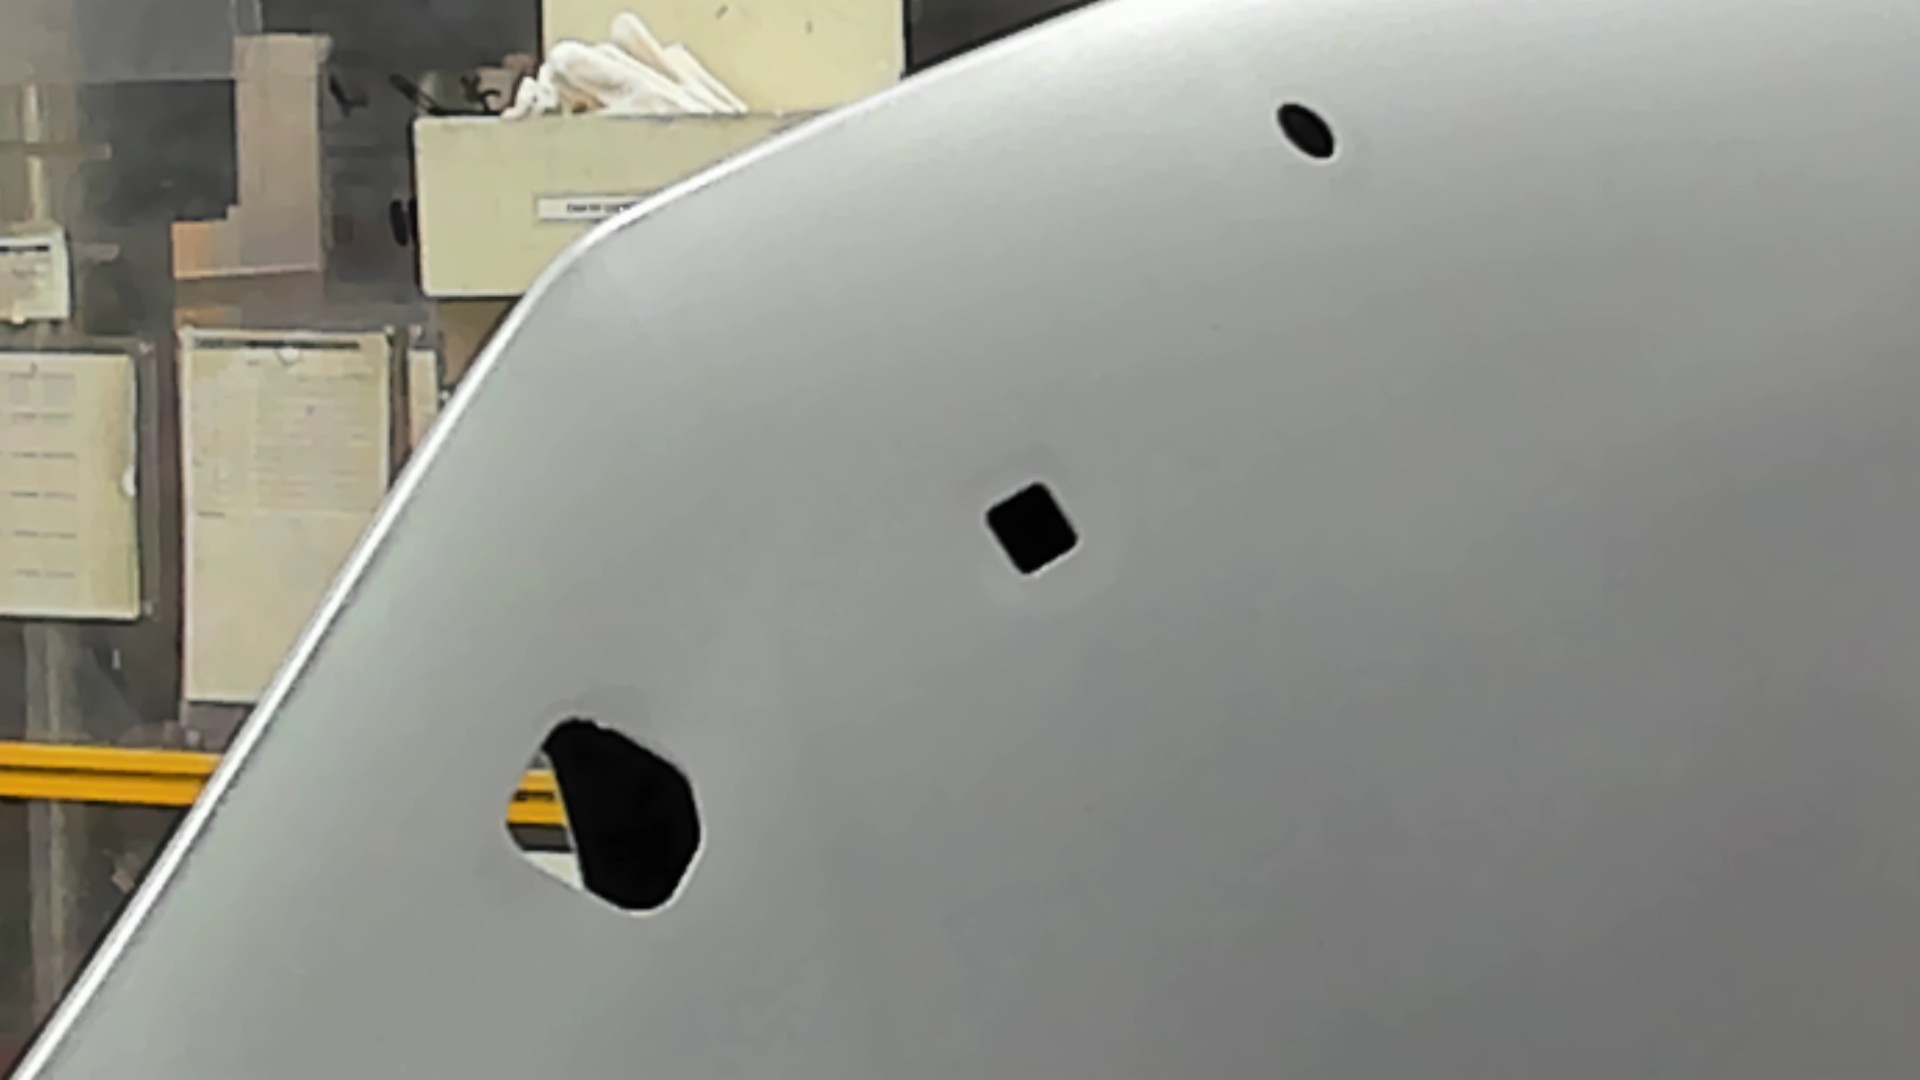chico: (1273, 98, 1345, 165)
grande: (498, 711, 709, 924)
mediano: (978, 476, 1087, 582)
